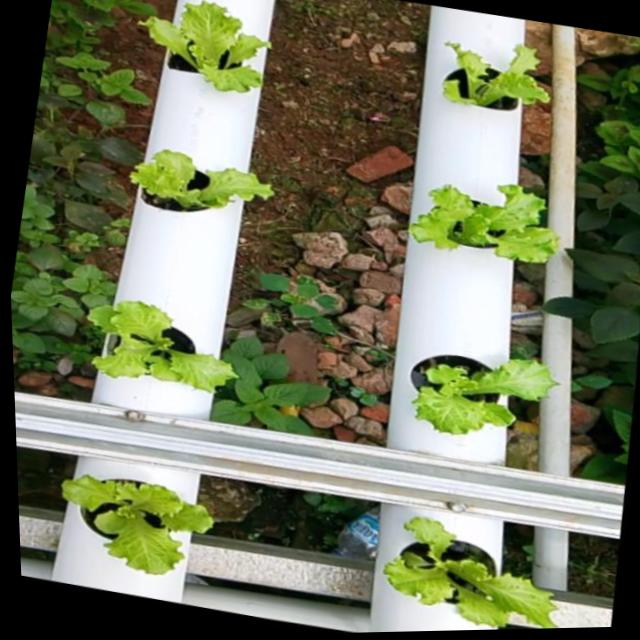Baby: (392, 511, 566, 625), (69, 455, 220, 572), (94, 299, 246, 391), (410, 185, 561, 264), (142, 3, 273, 94), (411, 355, 559, 435), (132, 151, 276, 213), (445, 45, 551, 112)
